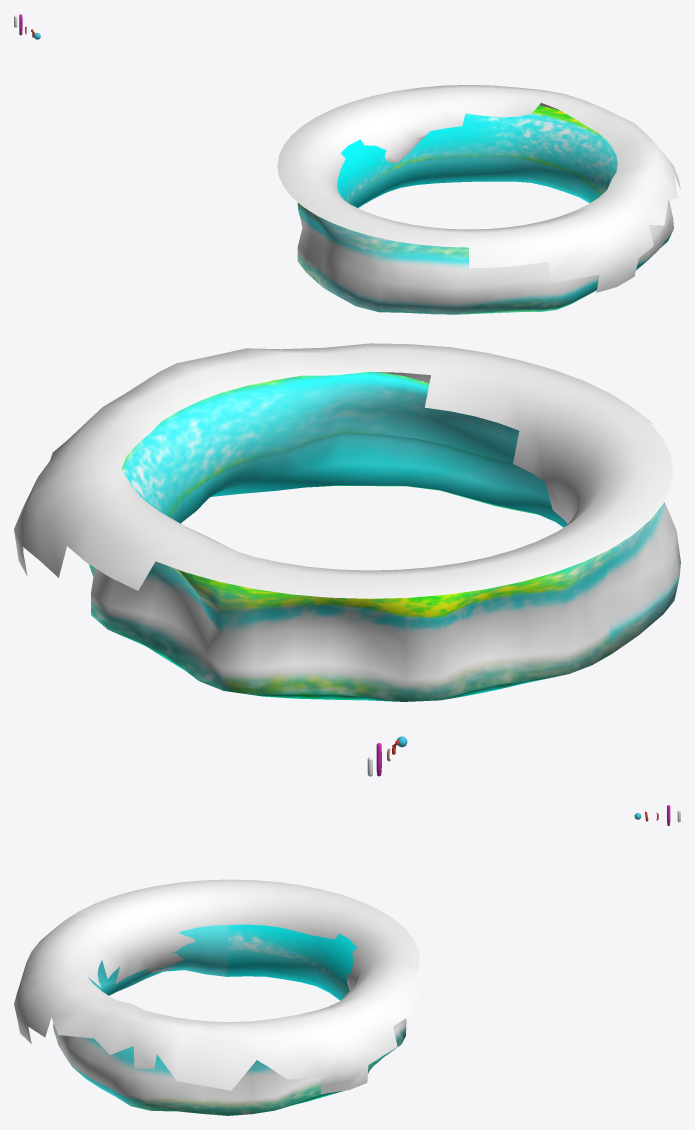
The model's file is donut_glb.glb.
The picture shows the model from 3 angles, top to bottom: view 1: azimuth 30°, elevation 25°; view 2: azimuth 150°, elevation 25°; view 3: azimuth 270°, elevation 25°; orthographic projection. The views are drawn at different scales.
Parts seen in each view (by area): view 1: donut, icing; view 2: donut, icing; view 3: icing, donut.
Part boxes in pixels (box(x1,y1,x2,y2)): donut: box(297, 105, 673, 314); icing: box(277, 85, 680, 292); donut: box(88, 371, 680, 701); icing: box(14, 343, 673, 598); icing: box(14, 879, 428, 1094); donut: box(53, 924, 406, 1115).
Bounding box in the file's own units: 2.83 × 0.8379 × 3.95.
Materials: 7 (1 with a texture image).
